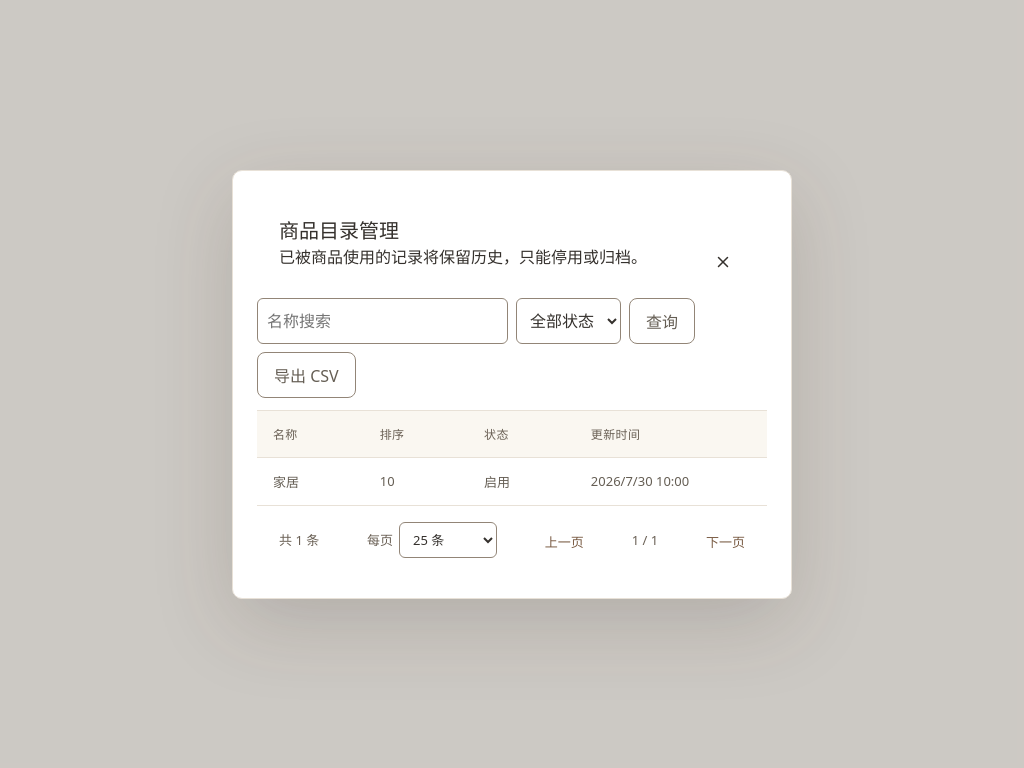
Test case: ProductMasterDataManager › downloads all category rows for the active filters
Expected: the text "家居" is shown, 257,457 -> 364,504
Type "  家居  " into the field named "搜索商品目录管理" at coordinates (382, 320), box 257,298 -> 508,344
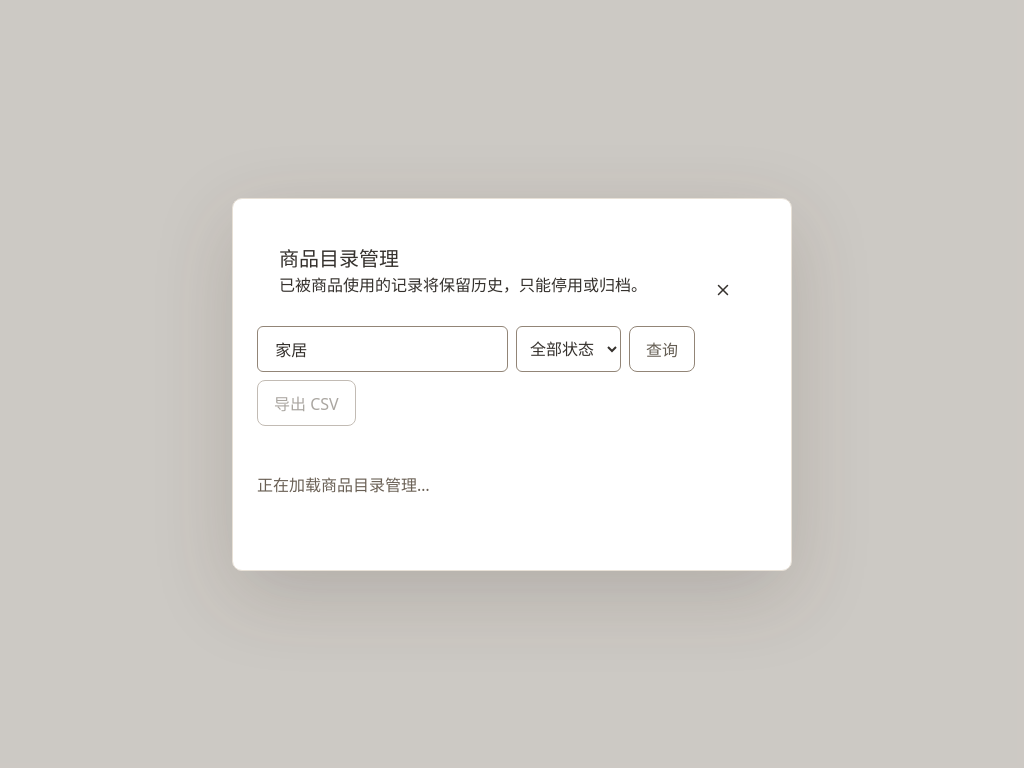
Select "启用" in the dropdown named "状态筛选" at coordinates (568, 348), box 516,326 -> 621,372
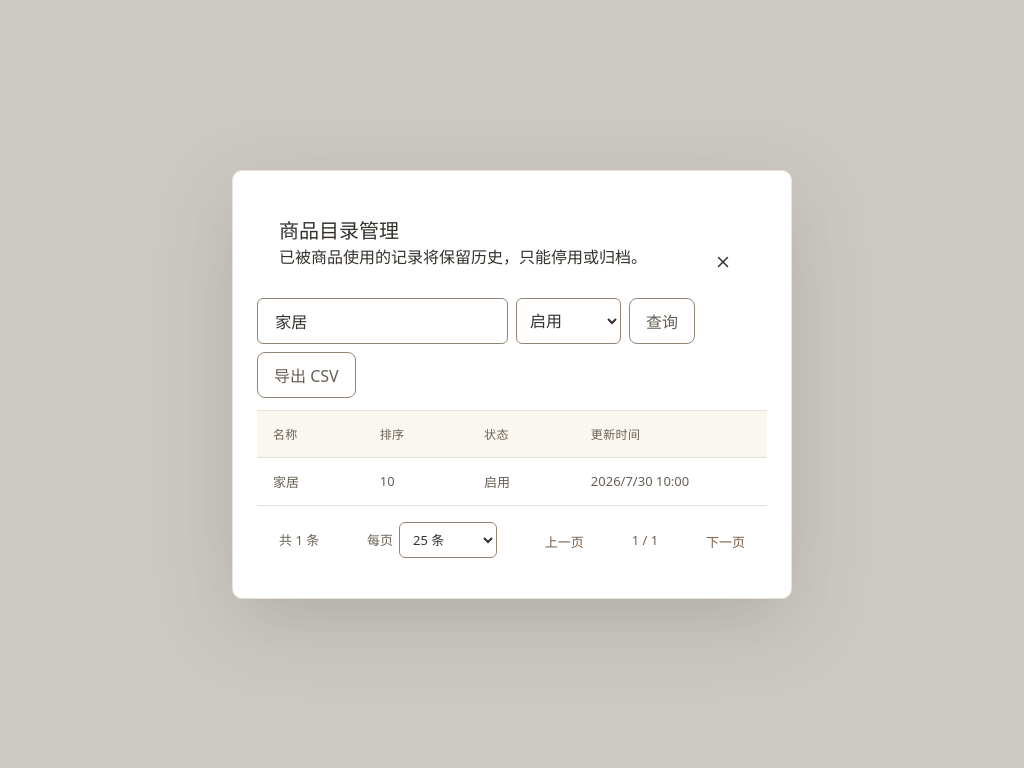
Expected: the button "导出 CSV" is enabled
Click the button "导出 CSV" at coordinates (306, 374), box 257,352 -> 356,398
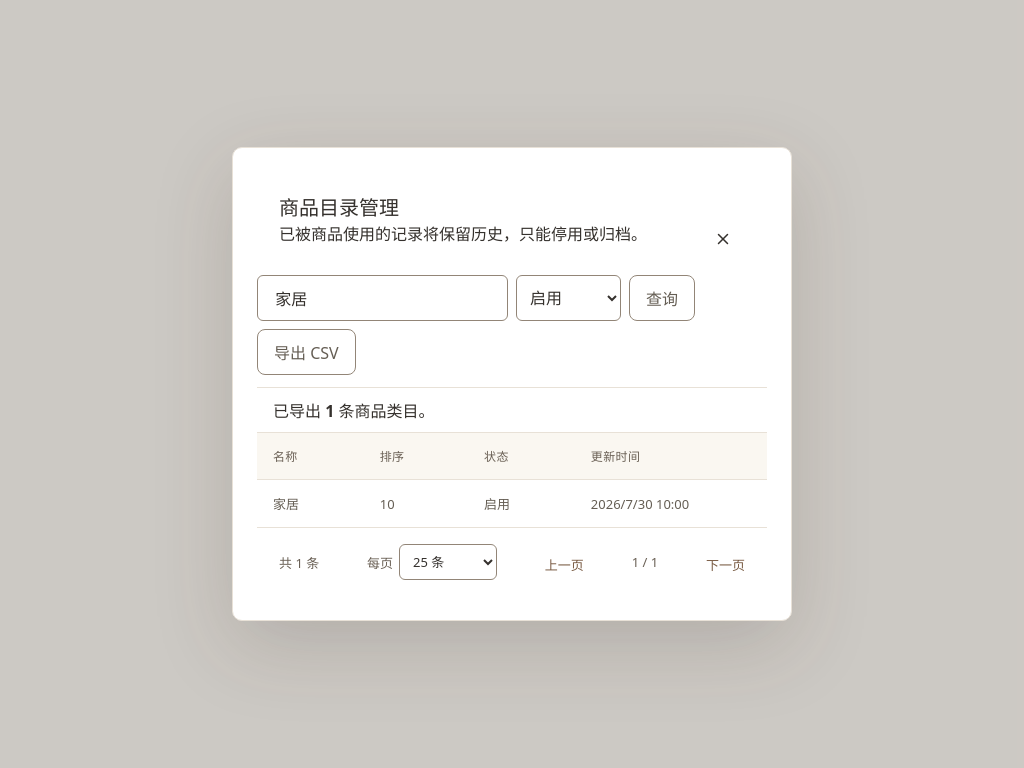
Expected: the message reads "已导出 1 条商品类目。", 273,400 -> 434,422
